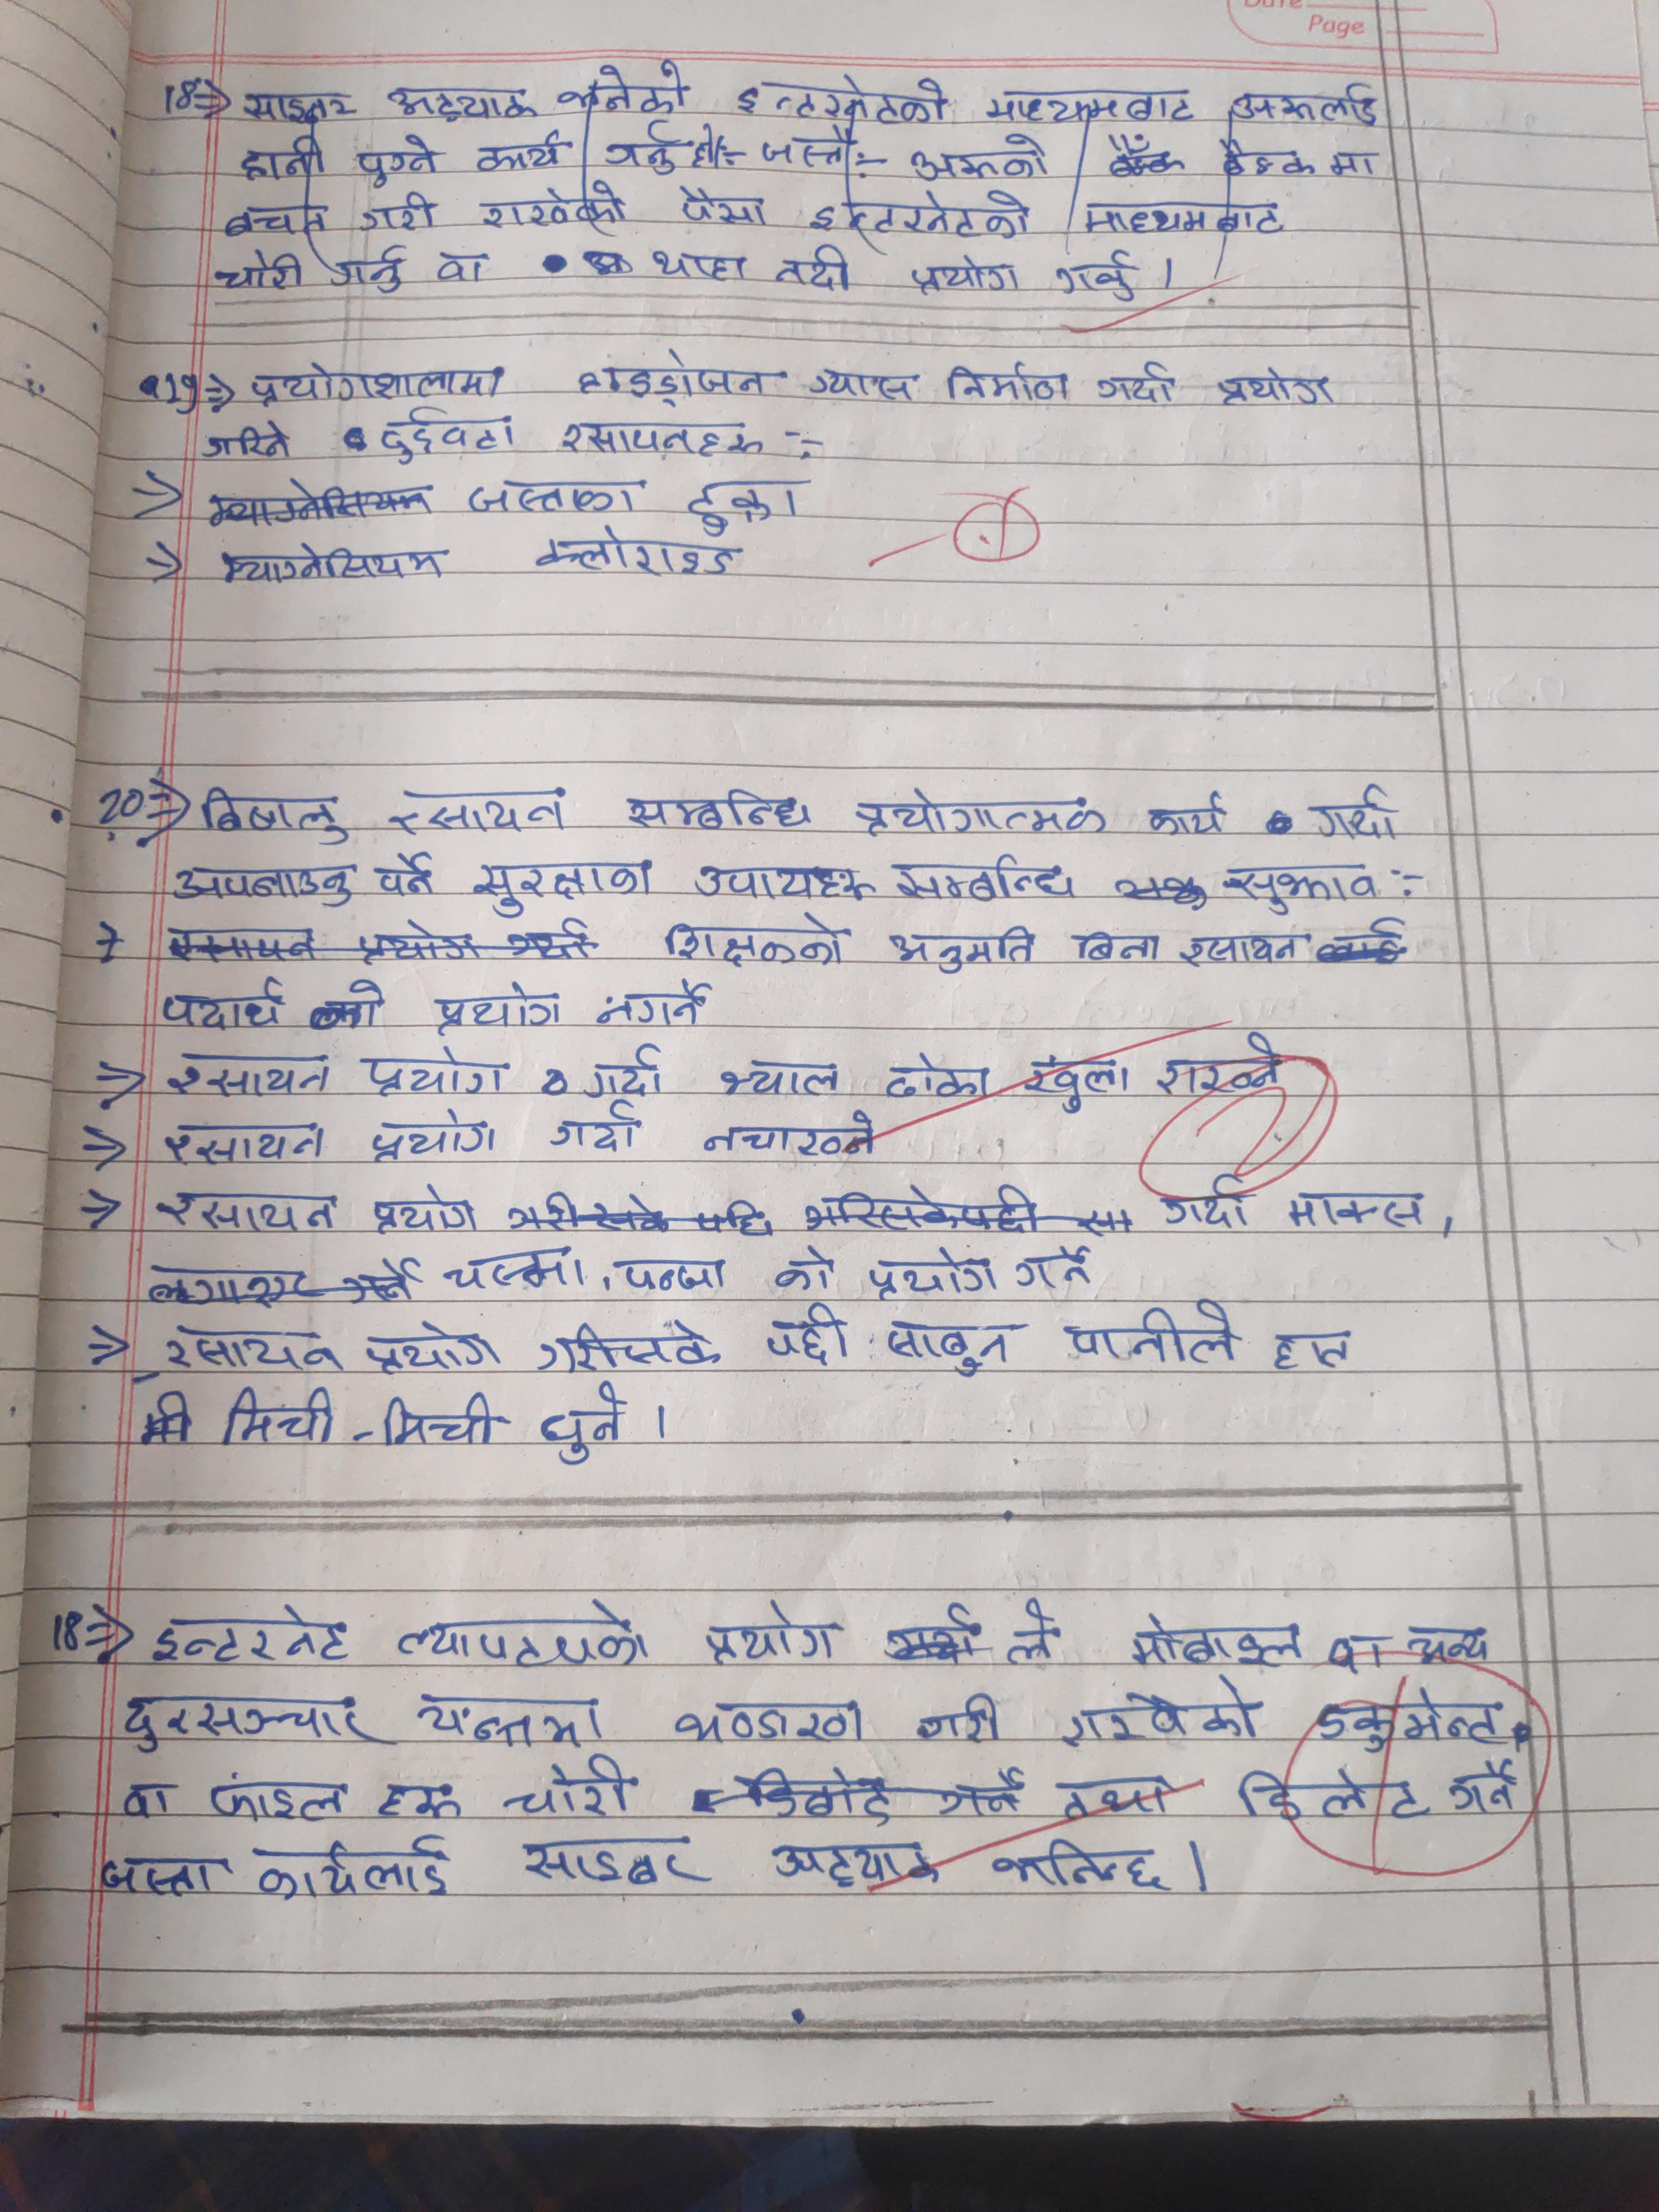text: (120, 1688, 397, 1754), (397, 1595, 653, 1667), (1061, 1676, 1267, 1747), (253, 1834, 457, 1904), (1316, 1688, 1511, 1757), (148, 1604, 350, 1670), (735, 71, 955, 131), (1234, 1763, 1431, 1827), (469, 853, 657, 920), (575, 348, 784, 408), (537, 528, 744, 587), (246, 359, 505, 406), (1058, 1303, 1241, 1369), (662, 907, 854, 970), (854, 789, 1108, 836), (418, 1688, 603, 1750), (1124, 1608, 1304, 1670), (518, 1834, 709, 1892), (814, 190, 1037, 239), (153, 1179, 342, 1237), (216, 540, 451, 585), (561, 411, 772, 462), (990, 1839, 1175, 1897), (390, 782, 572, 840), (885, 850, 1077, 904), (159, 1324, 343, 1379), (542, 1320, 728, 1374), (167, 857, 359, 909), (701, 1599, 847, 1667), (767, 1831, 941, 1886), (1084, 193, 1290, 240), (671, 1695, 868, 1743), (197, 784, 349, 846), (626, 789, 814, 840), (880, 1312, 1023, 1378), (985, 82, 1194, 125), (704, 1109, 880, 1160), (1230, 77, 1385, 132), (1157, 1029, 1279, 1099), (1223, 860, 1385, 913), (376, 406, 519, 465), (356, 1317, 505, 1372), (162, 1116, 331, 1165), (880, 923, 1037, 975), (688, 860, 875, 904), (437, 1242, 586, 1296), (509, 1757, 640, 1818), (376, 1388, 504, 1449), (866, 1245, 1000, 1303), (220, 1383, 338, 1447), (538, 1379, 627, 1465), (558, 63, 697, 117), (910, 132, 1047, 186), (169, 1052, 333, 1097), (467, 479, 650, 519), (207, 1771, 350, 1822), (383, 77, 542, 122), (357, 1050, 509, 1097), (1281, 1190, 1432, 1237), (429, 981, 563, 1033), (941, 361, 1079, 411), (94, 1848, 232, 1898), (1021, 1057, 1134, 1118), (481, 185, 627, 232), (159, 977, 289, 1029), (753, 1305, 856, 1369), (1178, 920, 1309, 970), (685, 479, 807, 533), (598, 975, 713, 1031), (1309, 782, 1403, 848), (716, 1054, 843, 1103), (375, 1108, 493, 1160), (1044, 1771, 1173, 1817), (373, 1181, 479, 1235), (1159, 1174, 1255, 1233), (885, 1052, 990, 1104), (547, 1099, 645, 1155), (910, 251, 1023, 298), (615, 1251, 728, 1298), (1215, 368, 1340, 409), (586, 1043, 676, 1101), (915, 1691, 1006, 1749), (1054, 249, 1141, 308), (1094, 357, 1185, 411), (1443, 1757, 1520, 1820), (1216, 134, 1314, 183), (1398, 1618, 1499, 1665), (240, 91, 362, 129), (805, 366, 920, 406), (676, 179, 767, 230), (350, 138, 446, 185), (211, 251, 308, 296), (1011, 1242, 1101, 1291), (606, 118, 683, 176), (471, 132, 572, 176), (760, 129, 856, 174), (220, 202, 333, 240), (1269, 1327, 1354, 1378), (240, 134, 331, 181), (1073, 925, 1166, 970), (772, 246, 850, 296), (1009, 1597, 1065, 1667), (647, 246, 749, 282), (1145, 791, 1234, 833), (774, 1244, 843, 1296), (202, 421, 293, 462), (359, 192, 439, 235), (378, 1782, 464, 1822), (333, 247, 410, 291), (371, 850, 441, 895), (120, 1778, 185, 1824), (1326, 145, 1384, 181), (436, 244, 488, 282)
